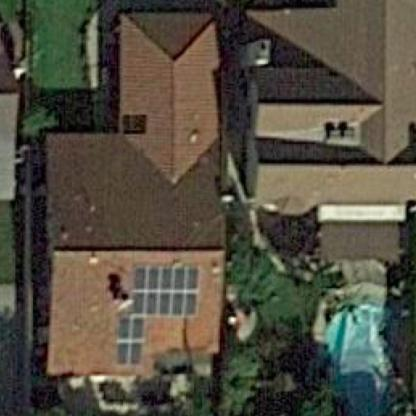solar_panel: (116, 256, 197, 372)
swimming_pool: (313, 284, 402, 416)
